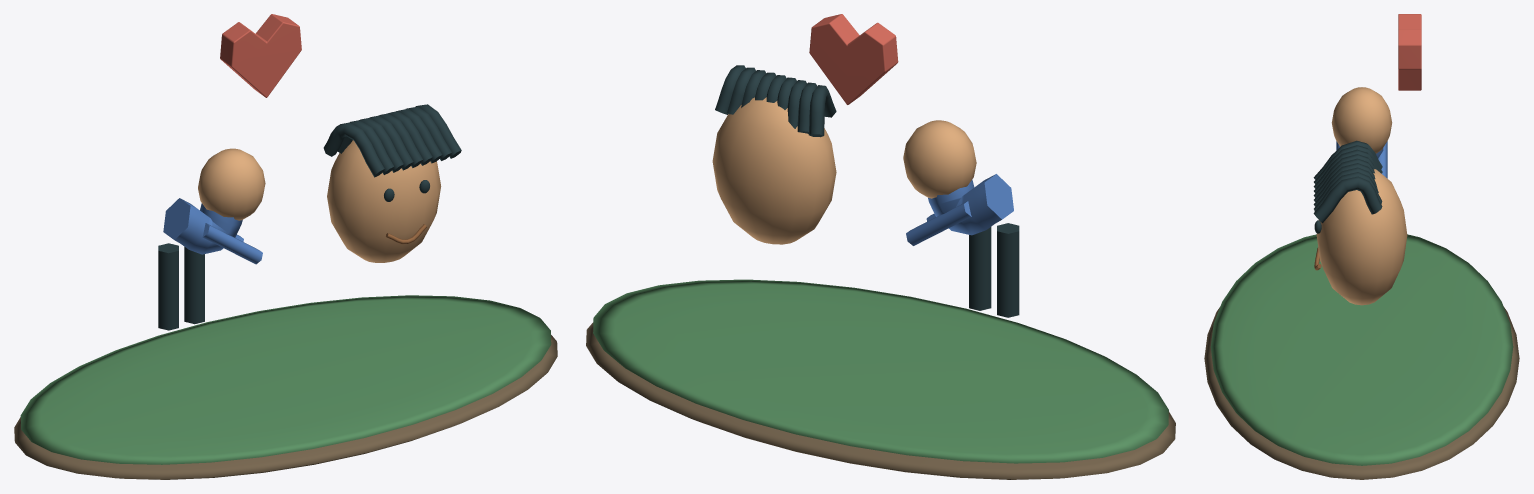
File: complete-third-courteous-countenance.glb
3 views of the same model, side by side, from view 1: azimuth 30°, elevation 25°; view 2: azimuth 150°, elevation 25°; view 3: azimuth 270°, elevation 25° (orthographic). The views are drawn at different scales.
Visible parts, largest first — view 1: complete-third-courteous-countenance_surface_01, complete-third-courteous-countenance_surface_02, complete-third-courteous-countenance_surface_04, complete-third-courteous-countenance_surface_00, complete-third-courteous-countenance_surface_06, complete-third-courteous-countenance_surface_03; view 2: complete-third-courteous-countenance_surface_01, complete-third-courteous-countenance_surface_02, complete-third-courteous-countenance_surface_00, complete-third-courteous-countenance_surface_04, complete-third-courteous-countenance_surface_06, complete-third-courteous-countenance_surface_03; view 3: complete-third-courteous-countenance_surface_01, complete-third-courteous-countenance_surface_02, complete-third-courteous-countenance_surface_00, complete-third-courteous-countenance_surface_04, complete-third-courteous-countenance_surface_06.
Boxes of the visible parts, x1,y1,x2,y2 form: complete-third-courteous-countenance_surface_01: (20,295,551,464); complete-third-courteous-countenance_surface_02: (198,140,441,262); complete-third-courteous-countenance_surface_04: (158,104,461,330); complete-third-courteous-countenance_surface_00: (14,335,557,479); complete-third-courteous-countenance_surface_06: (220,14,301,97); complete-third-courteous-countenance_surface_03: (163,198,262,264); complete-third-courteous-countenance_surface_01: (593,279,1168,463); complete-third-courteous-countenance_surface_02: (712,97,976,244); complete-third-courteous-countenance_surface_00: (586,322,1175,479); complete-third-courteous-countenance_surface_04: (715,65,1019,317); complete-third-courteous-countenance_surface_06: (809,14,898,104); complete-third-courteous-countenance_surface_03: (906,174,1013,245); complete-third-courteous-countenance_surface_01: (1210,234,1513,465); complete-third-courteous-countenance_surface_02: (1316,87,1407,305); complete-third-courteous-countenance_surface_00: (1204,307,1519,479); complete-third-courteous-countenance_surface_04: (1313,140,1382,233); complete-third-courteous-countenance_surface_06: (1398,14,1421,90).
Bounding box in the file's own units: 4.56 × 3.07 × 2.5.
